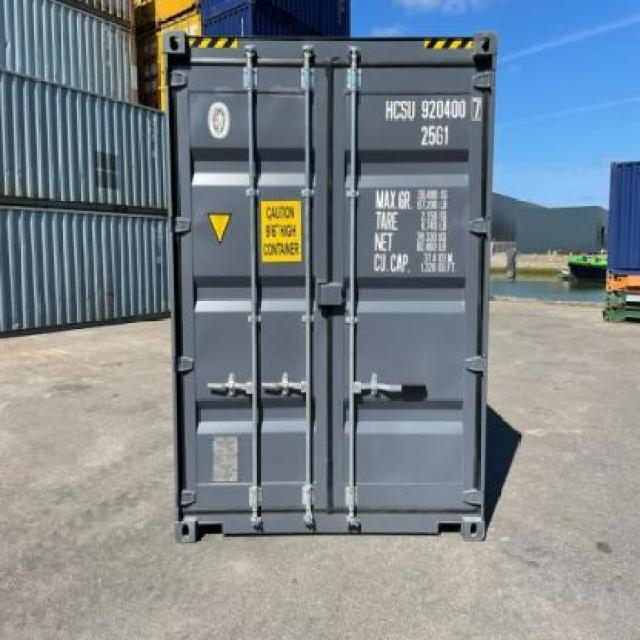ISO: (418, 124, 452, 146)
container_number: (382, 99, 482, 120)
